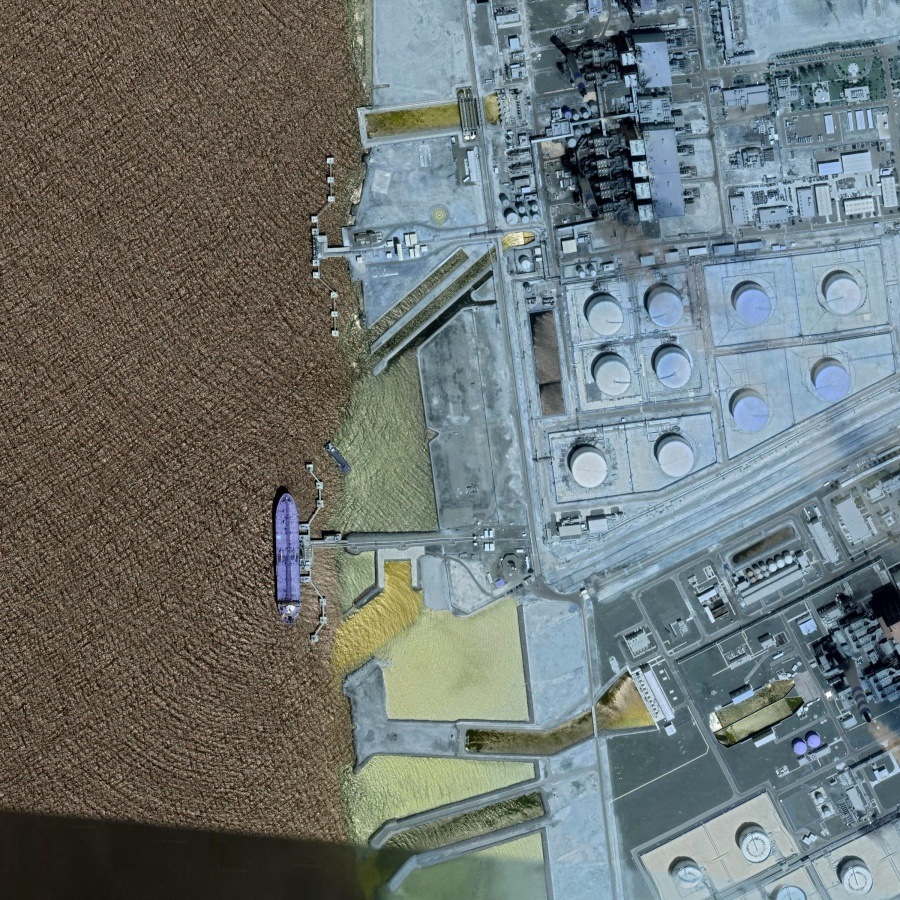PowerPlant: (517, 246, 897, 509)
